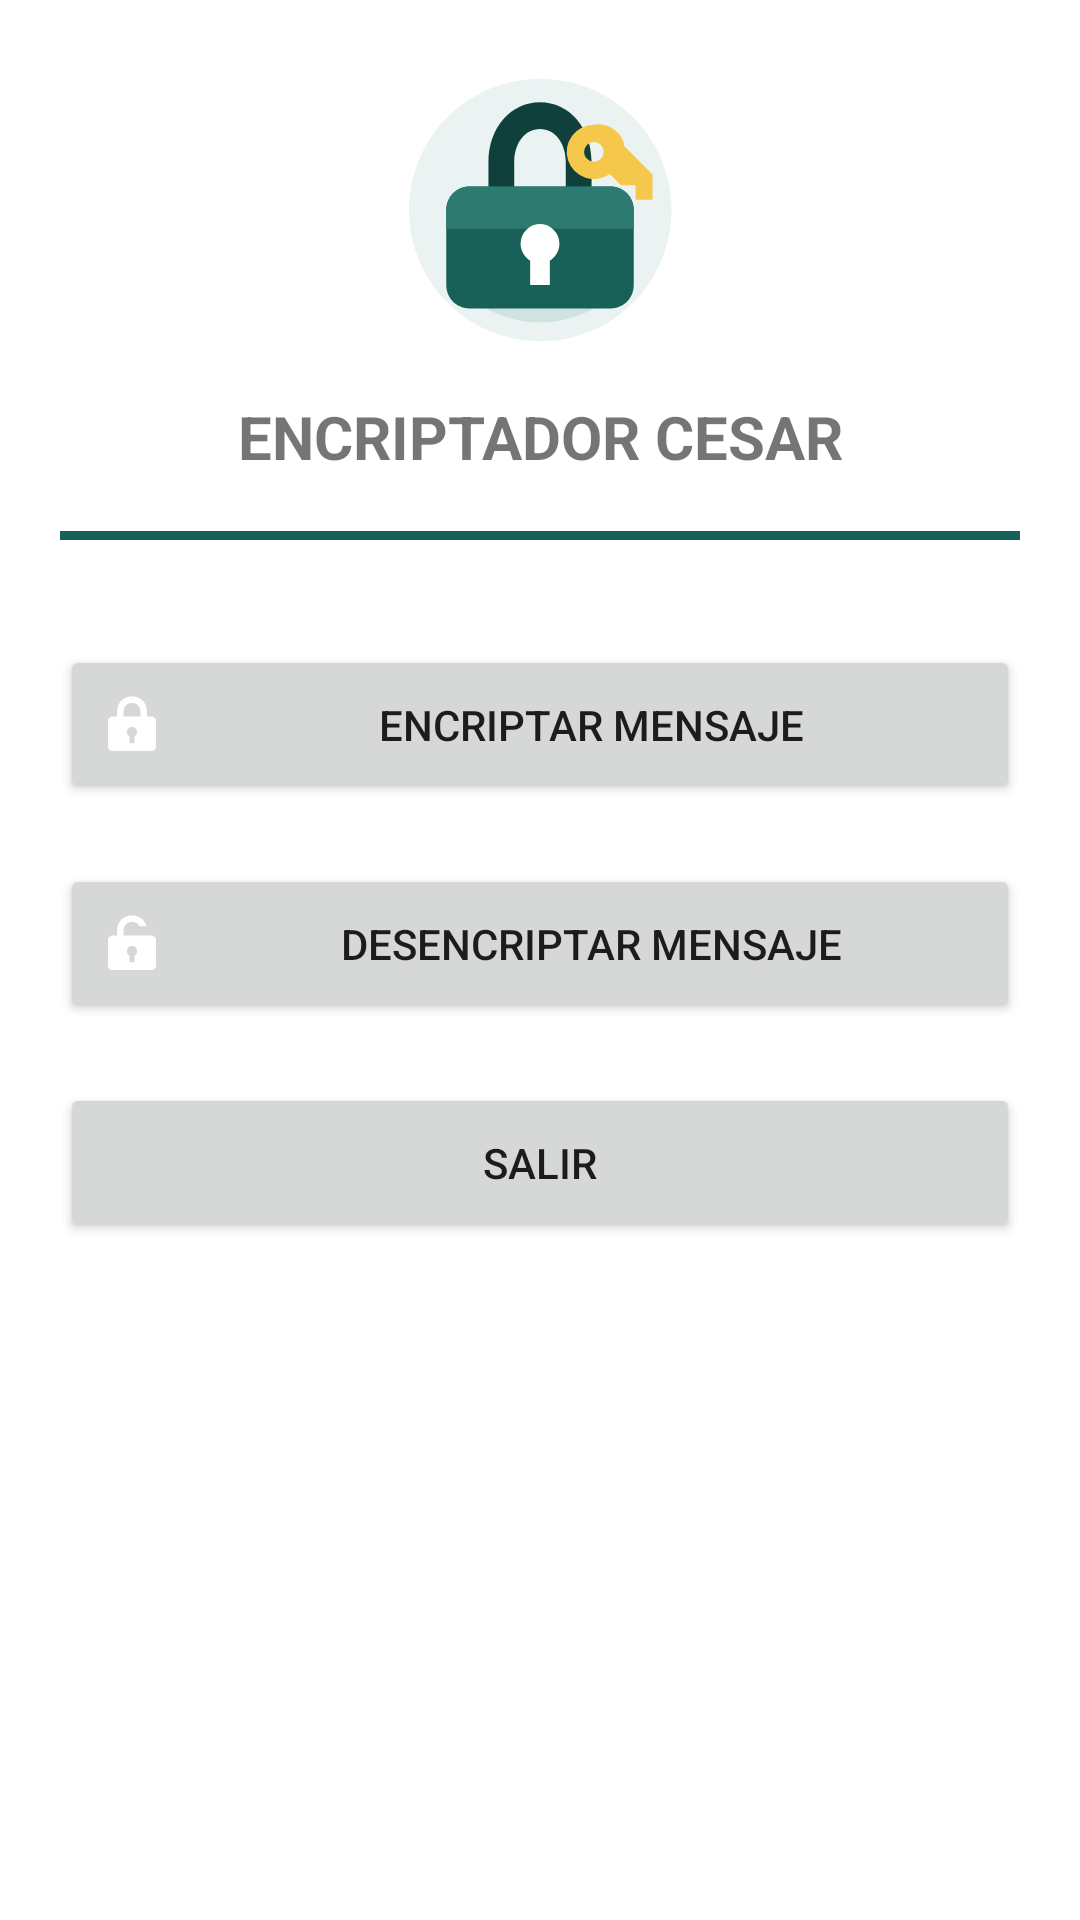

Locate icon controls on the screen. Image size 1080x1920, boxes as (x1,y1,x2,y2).
lock key: (446,102,653,323)
